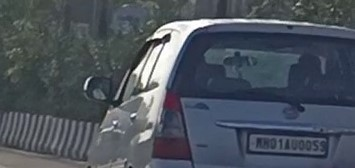MH01AU0059: (249, 133, 327, 156)
